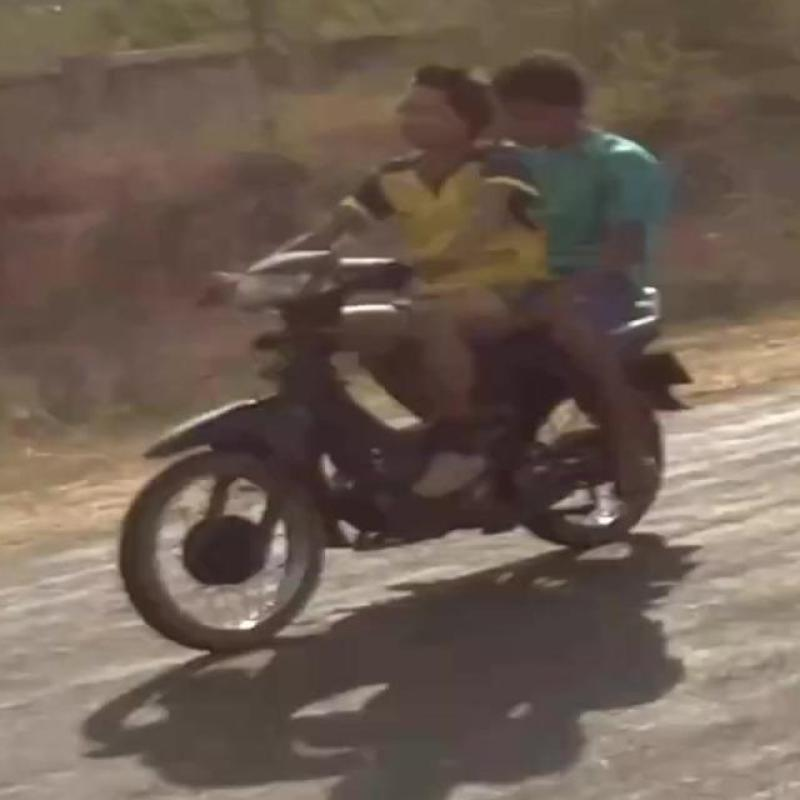nohelmet: (355, 52, 493, 150), (485, 46, 610, 150)
